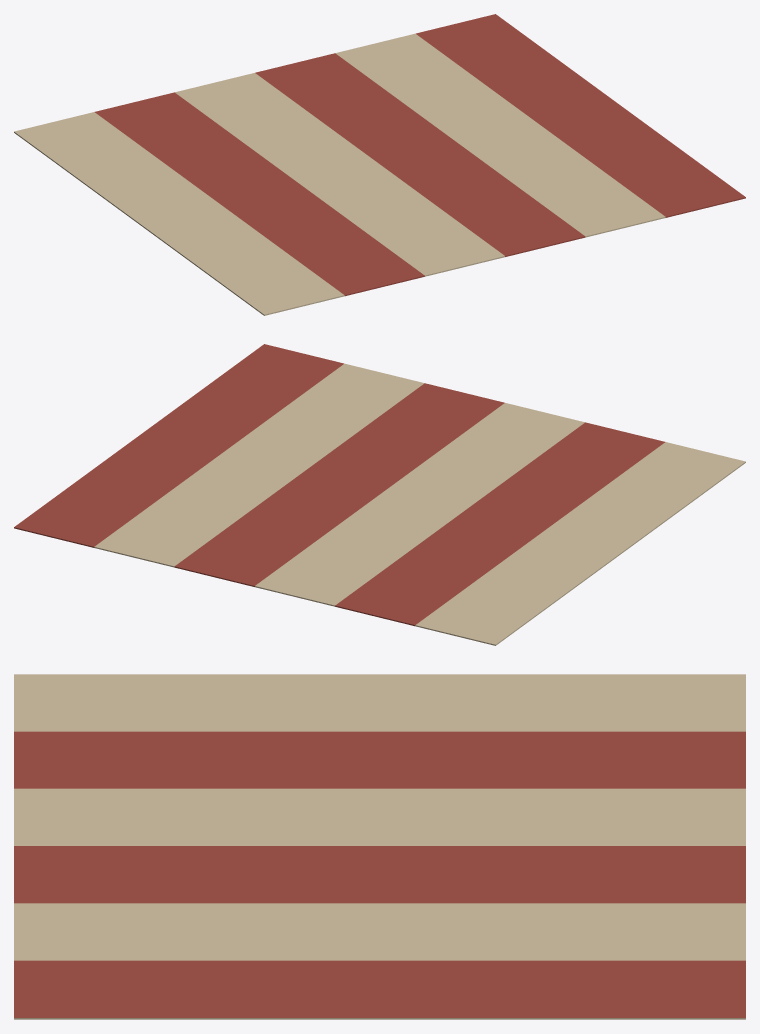
Rendered from picnic_blanket.glb.
3 renders of one model, top to bottom at view 1: azimuth 30°, elevation 25°; view 2: azimuth 150°, elevation 25°; view 3: azimuth 270°, elevation 25°, orthographic. The views are drawn at different scales.
Visible parts, largest first — view 1: picnic_blanket; view 2: picnic_blanket; view 3: picnic_blanket.
Boxes of the visible parts, bbox=[...] form: picnic_blanket: bbox=[14, 14, 745, 315]; picnic_blanket: bbox=[14, 344, 745, 645]; picnic_blanket: bbox=[14, 674, 745, 1019].
Size of the model in its own units: 5 by 0.012 by 4.5.
